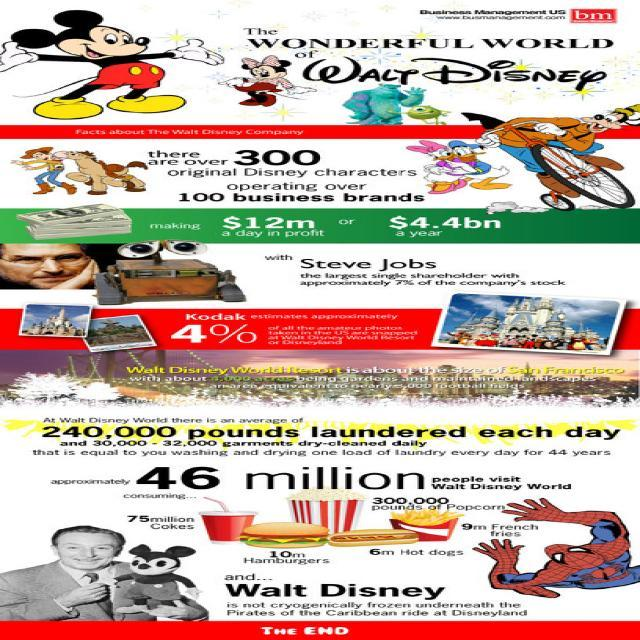French fries: (391, 511, 459, 525)
